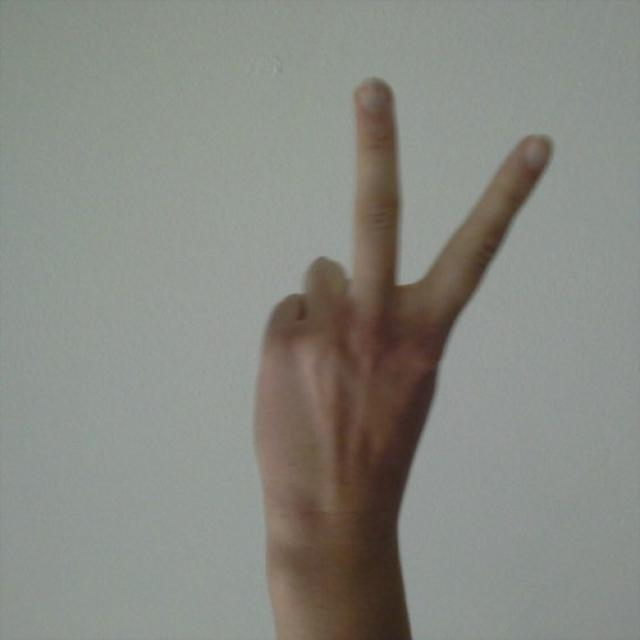scissors: (262, 70, 554, 506)
